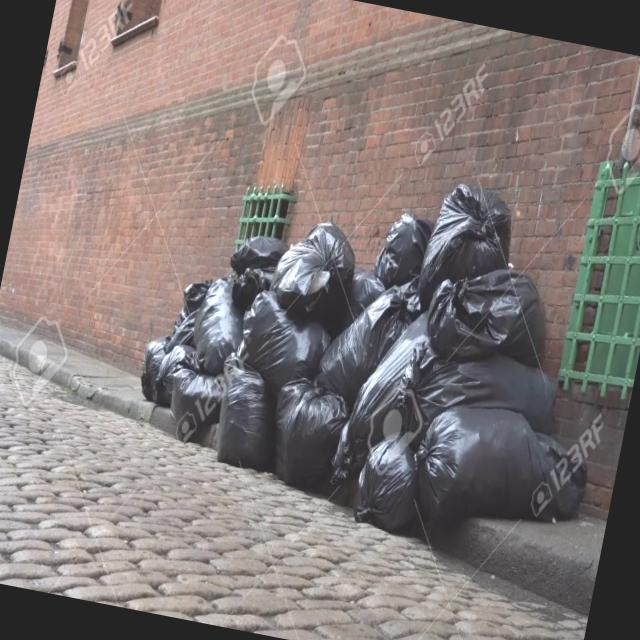garbage: (111, 115, 640, 579)
